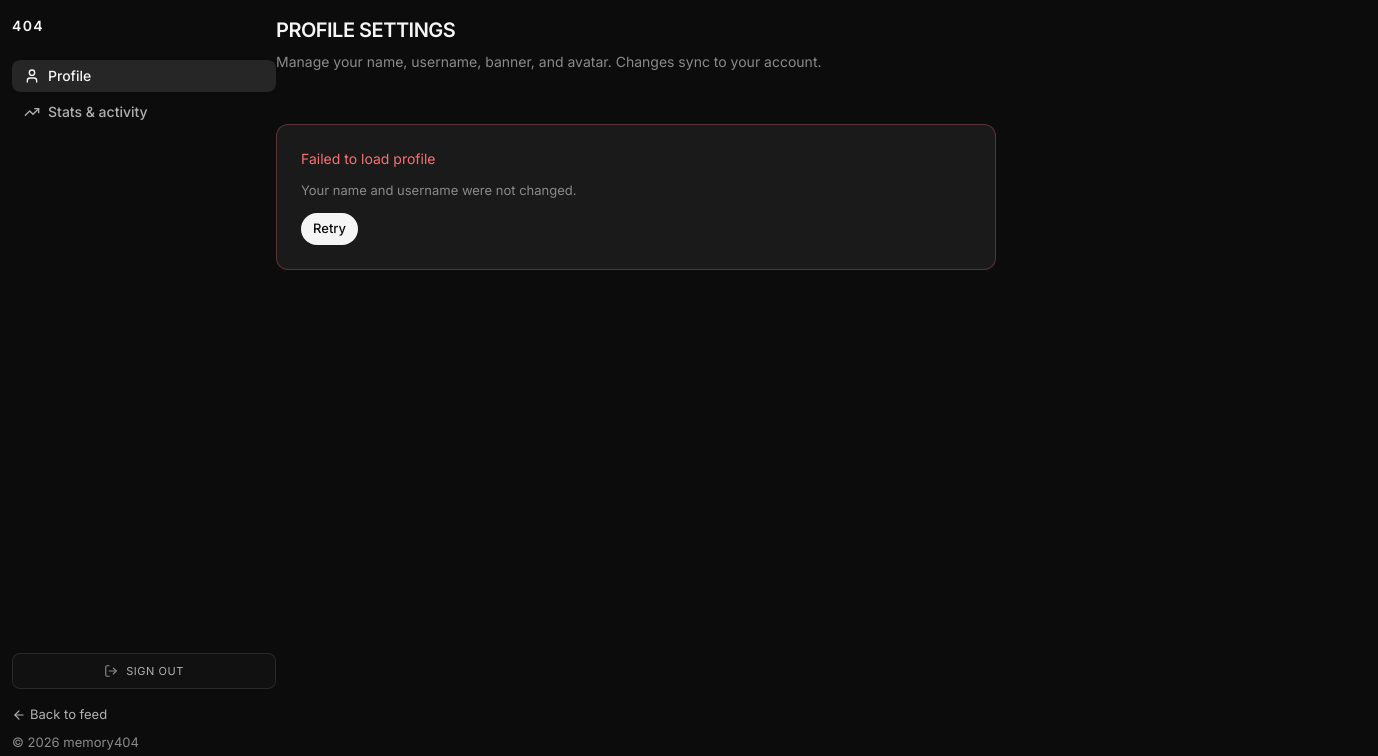
Scenario: profile load › keeps the form closed and retries without saving blank fields
Expected: the message shows "Failed to load profile", [301,150,435,167]
Expected: the text "Your name and username were not changed." is shown, [301,181,576,200]
Click the button "Retry" at (330, 228), box [301,212,358,244]
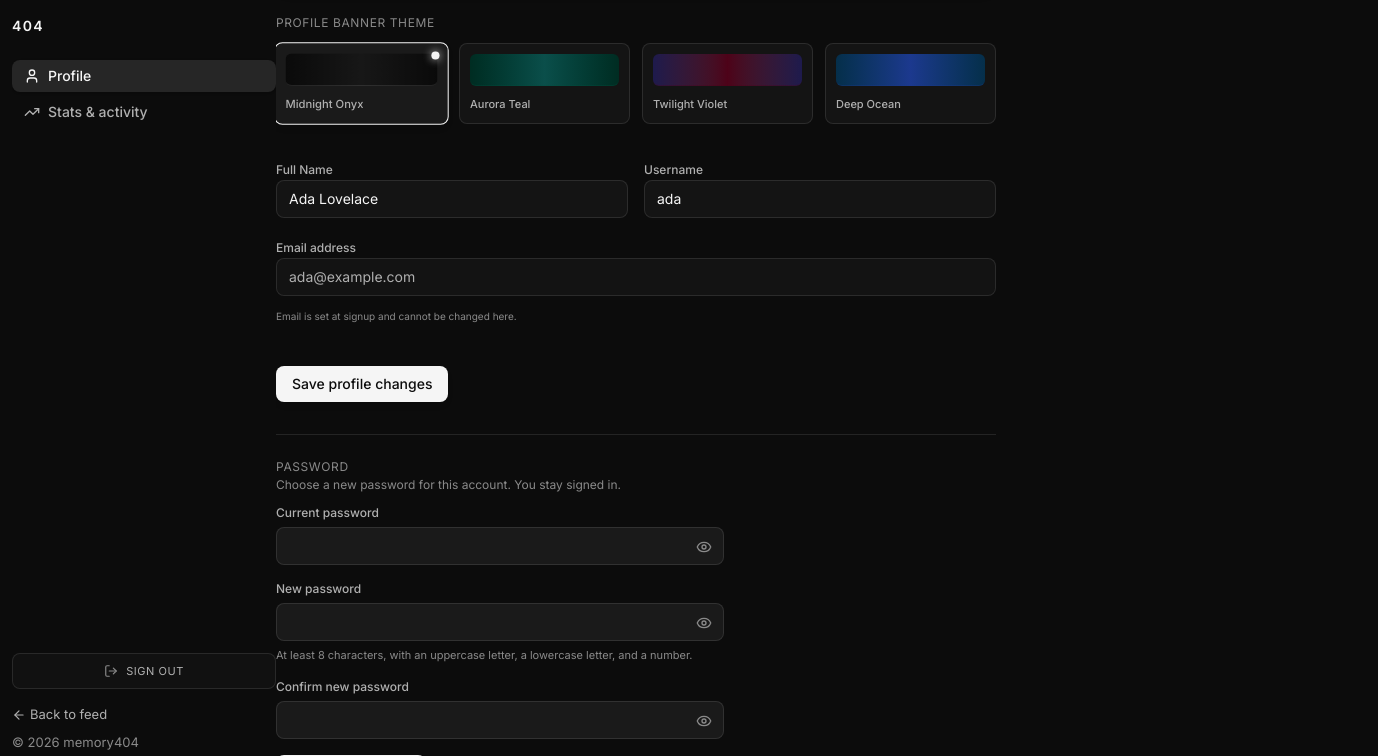
Result: the field showing "Ada Lovelace" is shown at [276,180,628,218]
Result: the field showing "ada" is shown at [644,180,996,218]
Result: the button "Save profile changes" is shown at [276,366,448,402]
